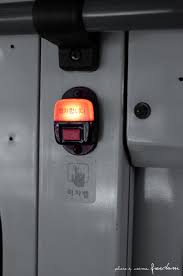bell: (50, 84, 105, 157)
